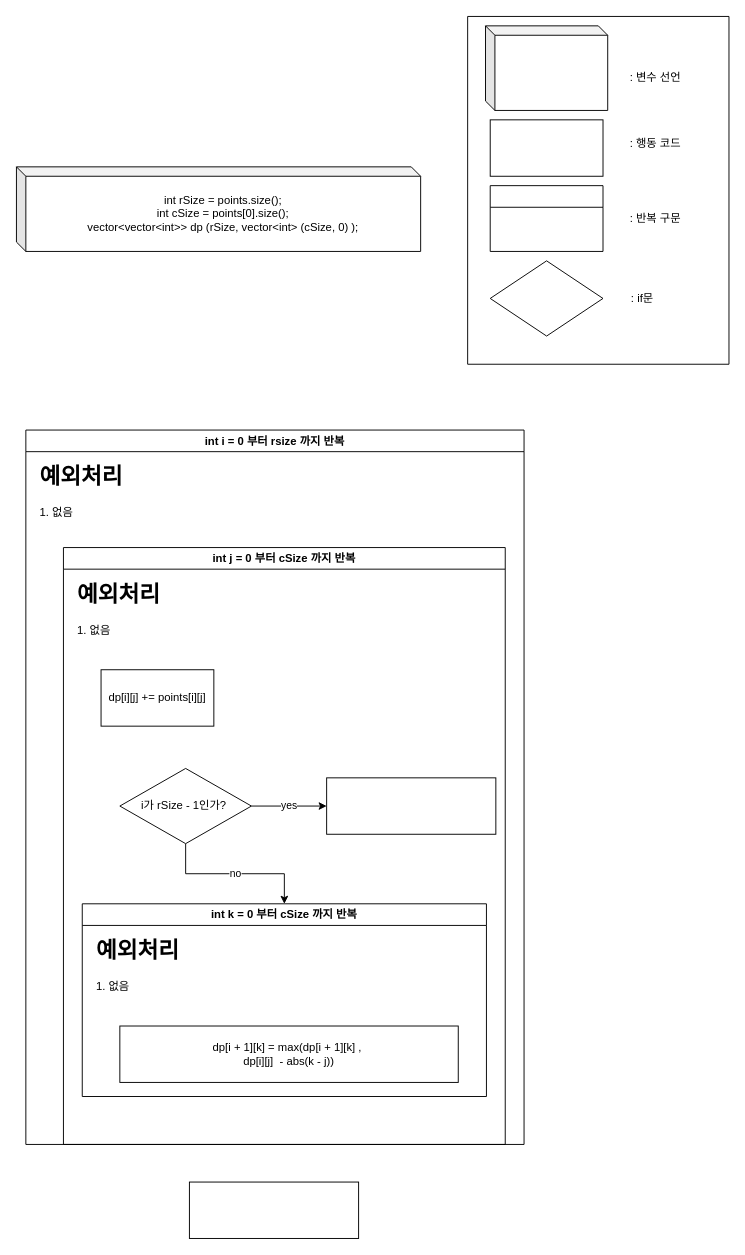
This 745x1255 diagram has some shape labels left out. The shapes that lost their labels are listed below. From the top down, each one's centre as x and y in pixels, then its label:
(x=546, y=218): ~ 동안
(x=411, y=805): answer = max(dp[i][j], answer) break
(x=273, y=1209): return answer;
